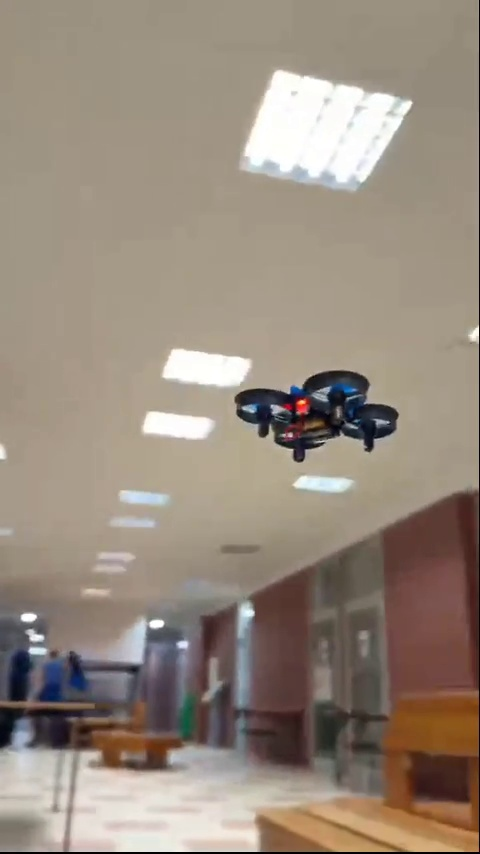drone: (234, 373, 400, 461)
no vest: (33, 639, 76, 710)
